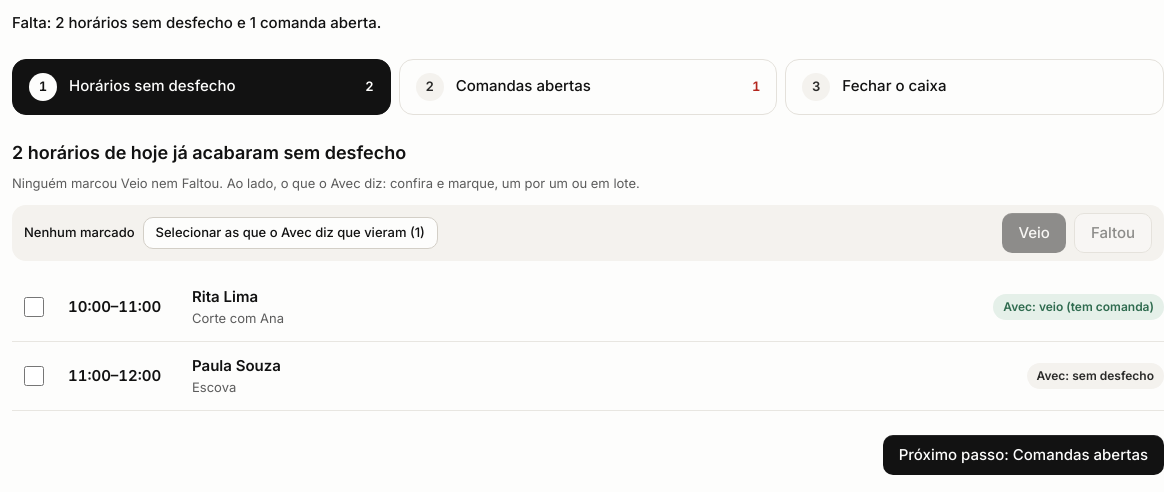
Scenario: Fechar o dia › passos com contagem; passo 1 com a sugestão do Avec, seleção e lote
Expected: the link "1 Horários sem desfecho 2" is shown, [12, 58, 391, 114]
Expected: the link "2 Comandas abertas 1" is shown, [399, 58, 777, 114]
Click the button "Selecionar as que o Avec diz que vieram (1)" at (290, 233), box [143, 217, 438, 249]
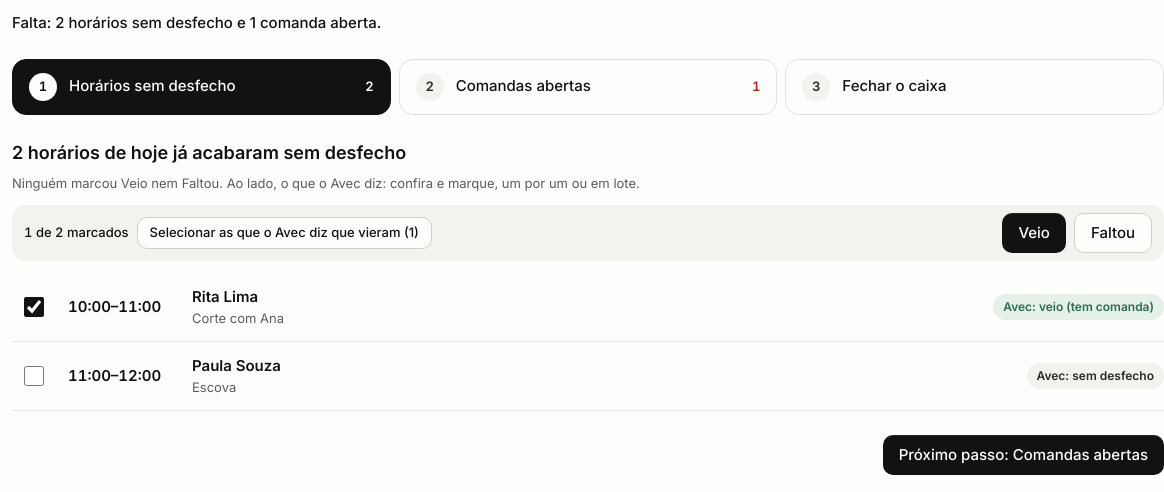
Expected: the checkbox named "Paula Souza, Escova" is not checked, [24, 366, 44, 386]
Expected: the button "Veio" is enabled, [1002, 213, 1066, 253]
Expected: the checkbox named "Rita Lima, Corte" is checked, [24, 297, 44, 317]
